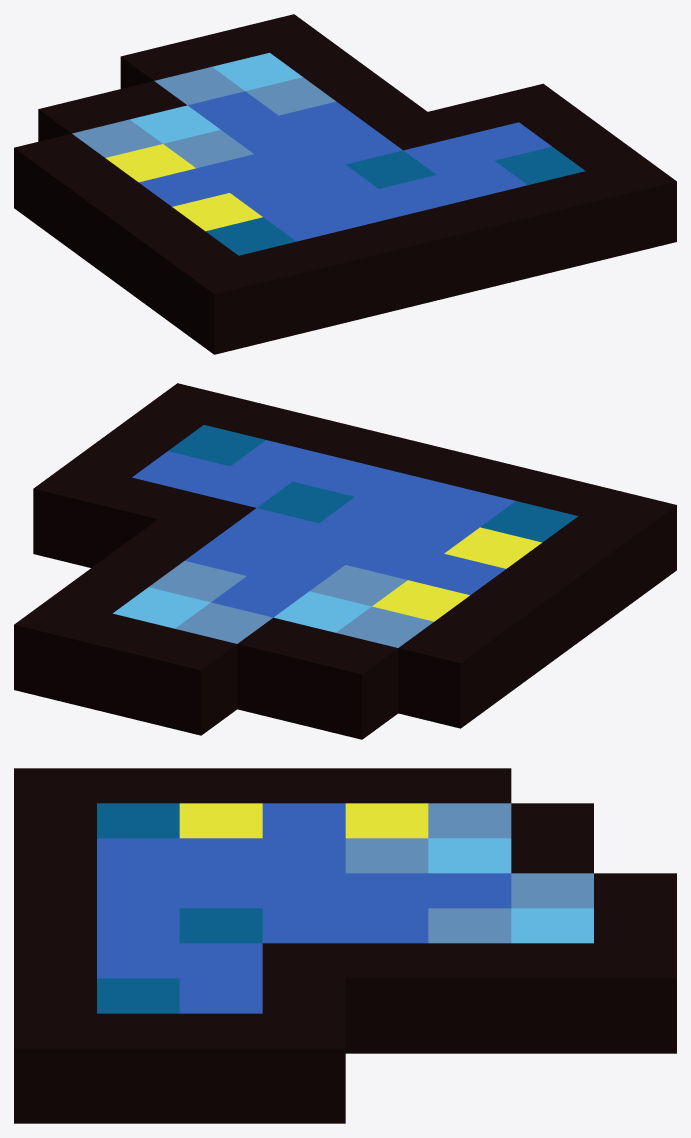
File: blue-keycard.glb
The picture shows the model from 3 angles, top to bottom: view 1: azimuth 30°, elevation 25°; view 2: azimuth 150°, elevation 25°; view 3: azimuth 270°, elevation 25°; orthographic projection. The views are drawn at different scales.
Parts seen in each view (by area): view 1: blue-keycard; view 2: blue-keycard; view 3: blue-keycard.
Part boxes in pixels (box(x1,y1,x2,y2)): blue-keycard: box(14, 14, 676, 354); blue-keycard: box(14, 383, 676, 739); blue-keycard: box(14, 768, 676, 1123).
Bounding box in the file's own units: 0.8 × 0.1 × 0.8.
1 material, 1 textured.
